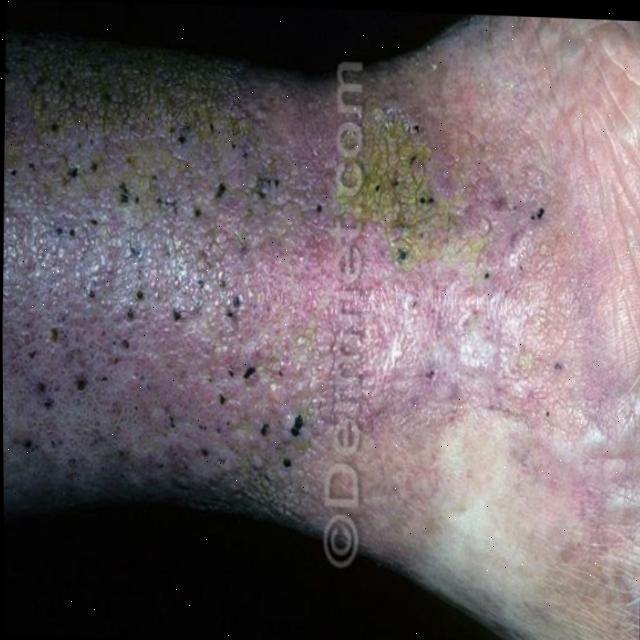Eczema: (1, 92, 460, 468)
